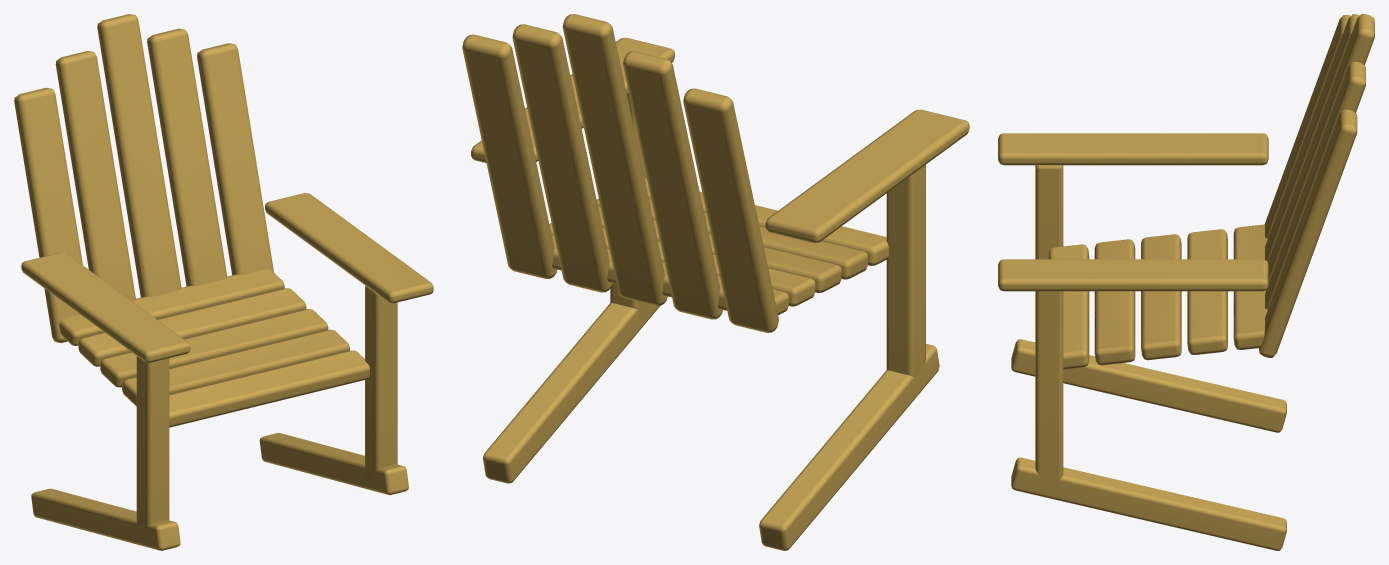
The model's file is furn_od_adirondack.glb.
3 renders of one model, left to right at view 1: azimuth 30°, elevation 25°; view 2: azimuth 150°, elevation 25°; view 3: azimuth 270°, elevation 25°, orthographic. The views are drawn at different scales.
Visible parts, largest first — view 1: furn_od_adirondack_main; view 2: furn_od_adirondack_main; view 3: furn_od_adirondack_main.
Part boxes in pixels (bbox=[...]): furn_od_adirondack_main: bbox=[14, 14, 433, 550]; furn_od_adirondack_main: bbox=[462, 14, 969, 550]; furn_od_adirondack_main: bbox=[998, 14, 1374, 550].
Size of the model in its own units: 0.76 by 1.1 by 0.8082.
